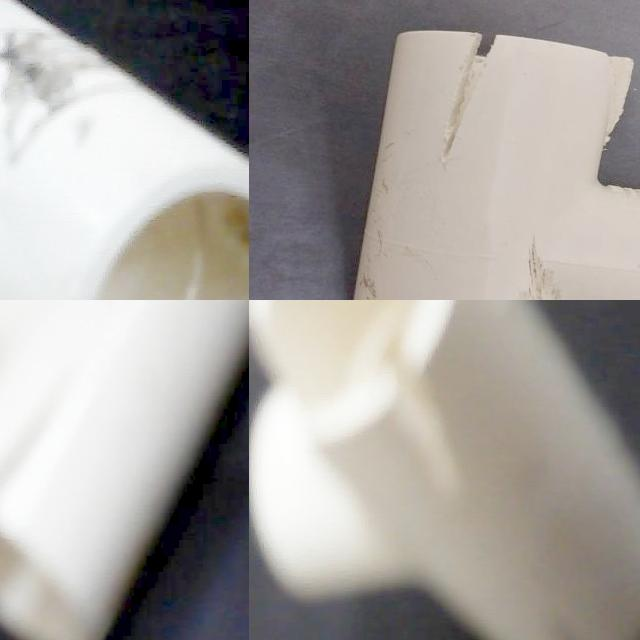Defective: (0, 4, 137, 163), (363, 333, 453, 513), (435, 26, 522, 182), (125, 221, 249, 300), (0, 419, 58, 566), (469, 222, 560, 300), (592, 45, 638, 168)
T Joint: (249, 300, 640, 640), (351, 31, 640, 300)
